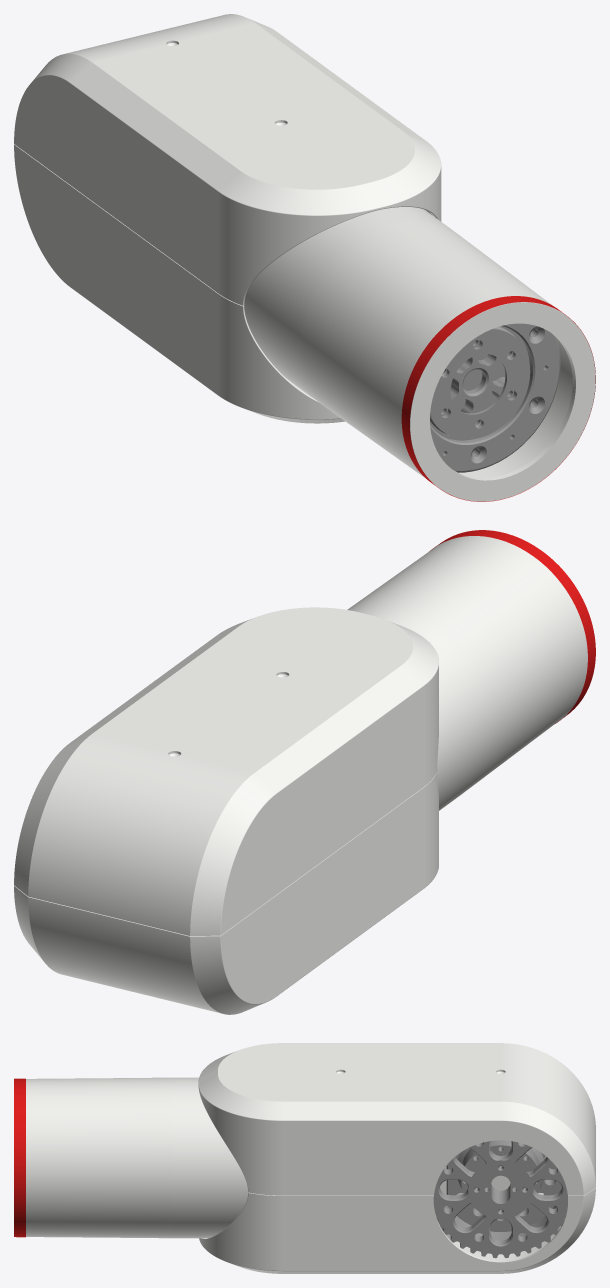
3 renders of one model, top to bottom at view 1: azimuth 30°, elevation 25°; view 2: azimuth 150°, elevation 25°; view 3: azimuth 270°, elevation 25°, orthographic. The views are drawn at different scales.
Visible parts, largest first — view 1: shell1, shell3, shell2, motor6, Body4, link1; view 2: shell1, shell2, shell3, Body4; view 3: shell1, shell3, shell2, link1, Body4.
Part boxes in pixels (bbox=[...]): shell1: bbox=[14, 14, 441, 305]; shell3: bbox=[244, 207, 595, 501]; shell2: bbox=[14, 144, 344, 423]; motor6: bbox=[430, 323, 552, 464]; Body4: bbox=[401, 296, 595, 501]; link1: bbox=[445, 328, 560, 472]; shell1: bbox=[14, 607, 438, 935]; shell2: bbox=[14, 772, 438, 1014]; shell3: bbox=[347, 536, 587, 810]; Body4: bbox=[430, 530, 595, 723]; shell1: bbox=[198, 1043, 595, 1195]; shell3: bbox=[26, 1077, 247, 1238]; shell2: bbox=[199, 1166, 595, 1273]; link1: bbox=[433, 1140, 567, 1258]; Body4: bbox=[14, 1078, 25, 1237].
Bounding box in the file's own units: 73.5 × 78.97 × 242.
